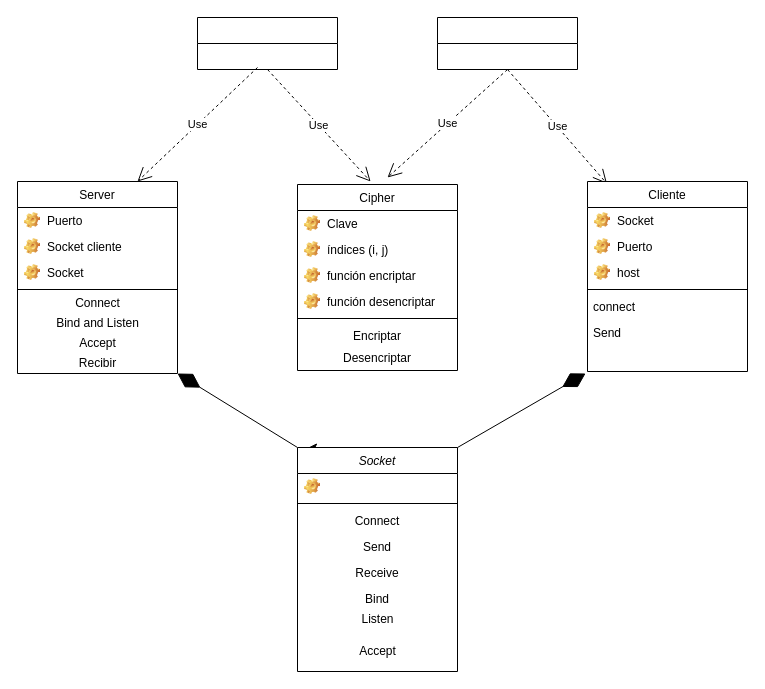
The diagram is 765 pixels wide and 689 high, and some of its shapes have lost their labels. The centre of each missing label's shape, as x and y in pixels:
"Cliente main" goes at pixel 507 43.
"File descriptor" goes at pixel 377 486.
"Servidor main" goes at pixel 267 43.
